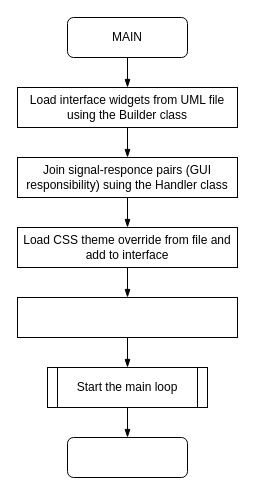
The diagram is 255 pixels wide and 495 high, and some of its shapes have lost their labels. The shapes that lost their labels are listed below. From the top down, each one's centre as x and y in pixels, then its label:
(127,317): join quit signal to destroy the main window
(127,457): END
